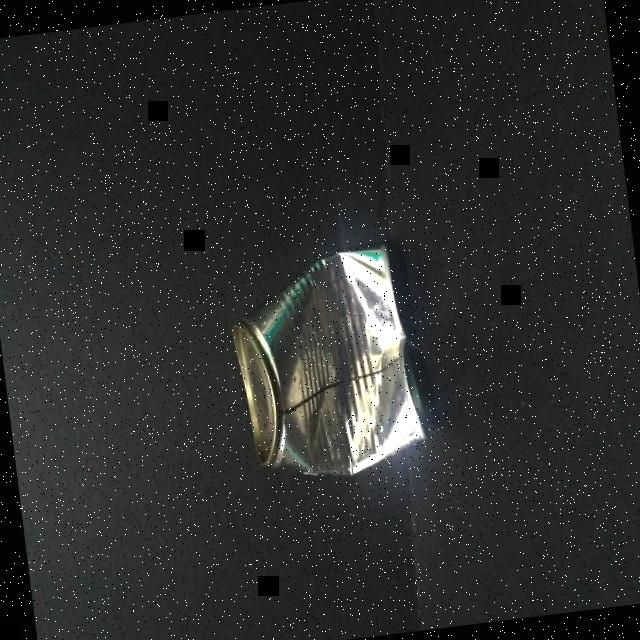can: (222, 234, 440, 492)
